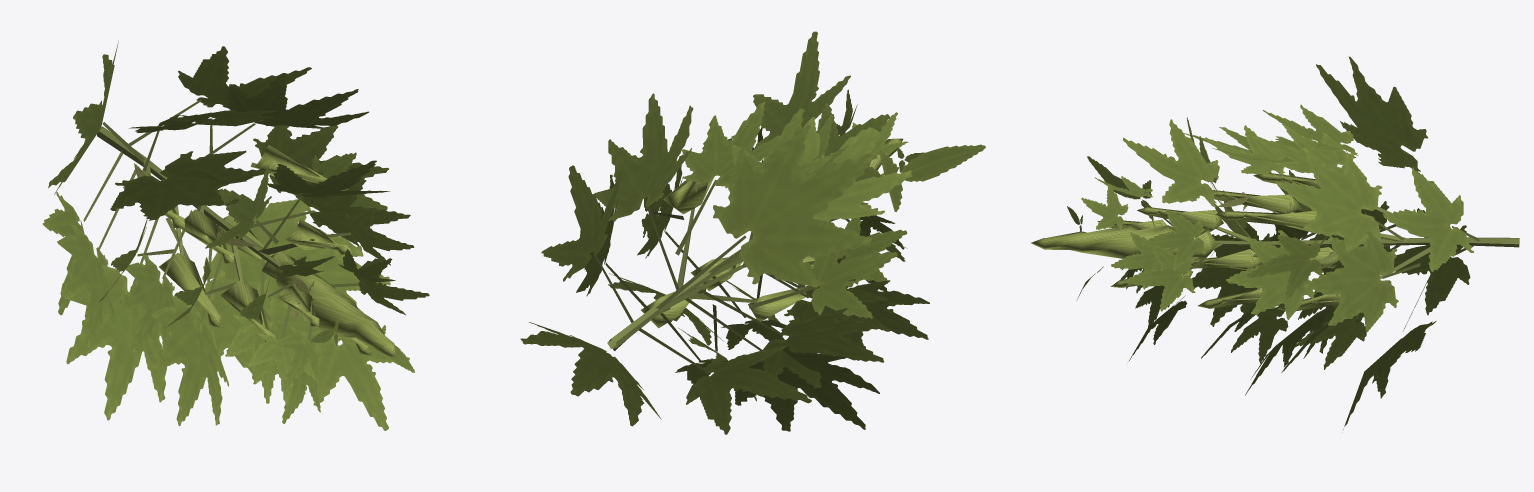
File: p_hybrid_flowering_c1_cards.obj
3 renders of one model, left to right at view 1: azimuth 30°, elevation 25°; view 2: azimuth 150°, elevation 25°; view 3: azimuth 270°, elevation 25°, orthographic. The views are drawn at different scales.
Bounding box in the file's own units: 1.28 × 1.25 × 1.5.
1 material, 1 textured.
